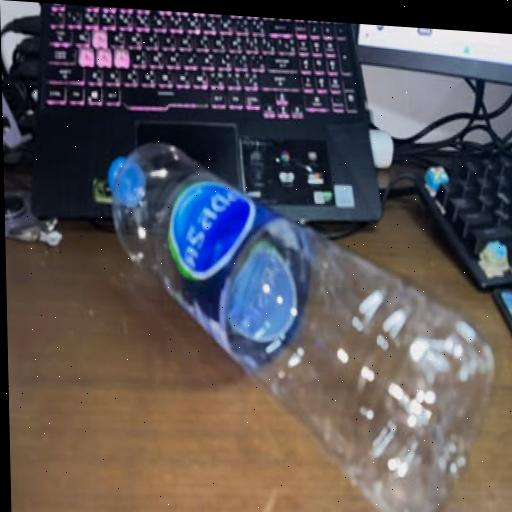bottle: (89, 127, 510, 512)
